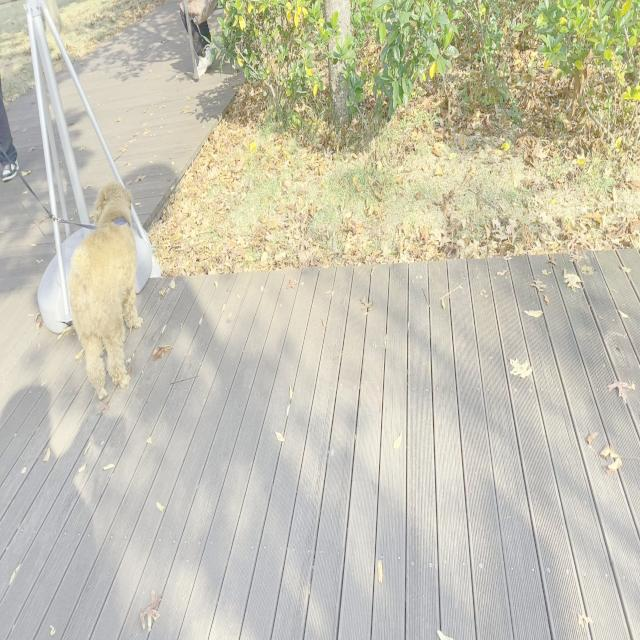Dog: (68, 181, 146, 403)
